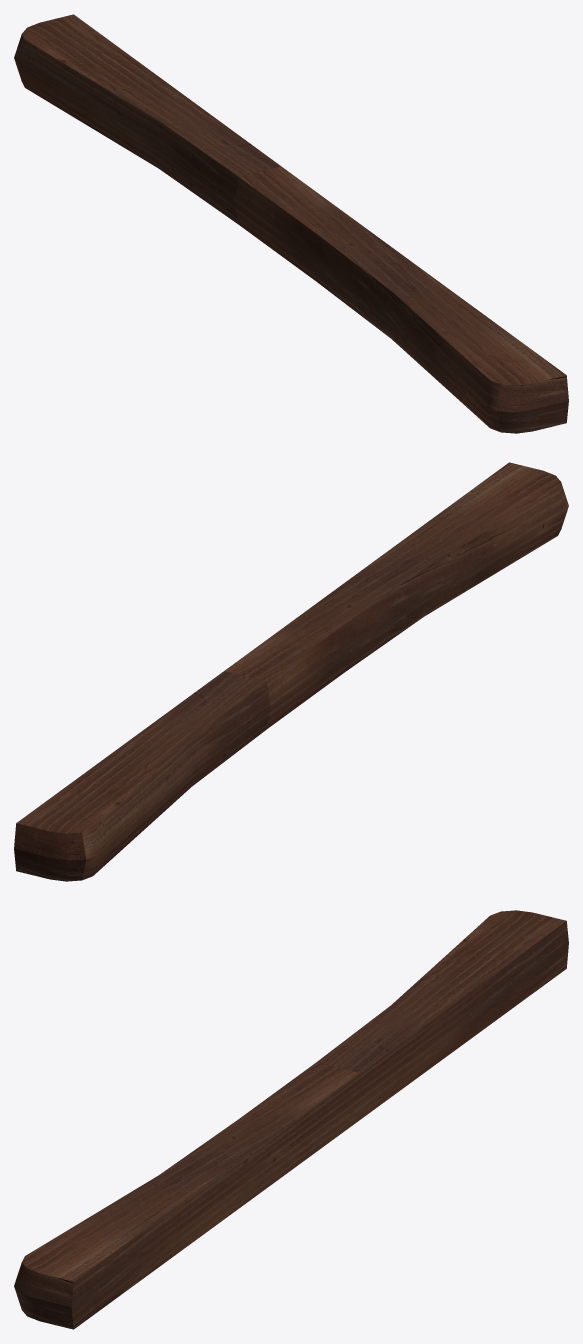
The model's file is SM_D_Gate_5_1.fbx.
The picture shows the model from 3 angles, top to bottom: view 1: azimuth 30°, elevation 25°; view 2: azimuth 150°, elevation 25°; view 3: azimuth 330°, elevation 25°; orthographic projection.
Parts seen in each view (by area): view 1: SM_D_Gate_5_1; view 2: SM_D_Gate_5_1; view 3: SM_D_Gate_5_1.
Part boxes in pixels (bbox=[...]): SM_D_Gate_5_1: bbox=[14, 14, 568, 433]; SM_D_Gate_5_1: bbox=[14, 462, 568, 881]; SM_D_Gate_5_1: bbox=[14, 910, 568, 1329].
Size of the model in its own units: 15.44 by 194 by 10.29.
Materials: 1 (1 with a texture image).
